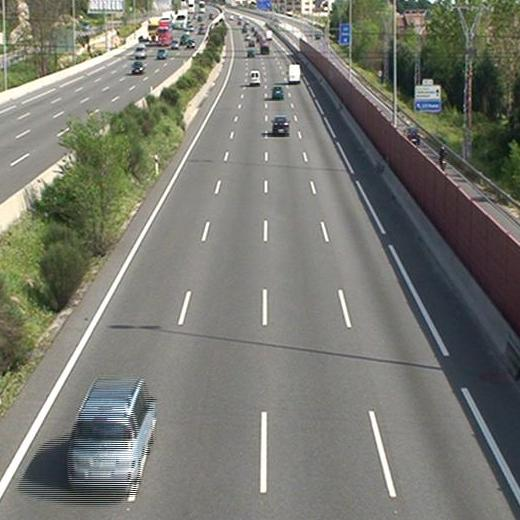car: (69, 383, 151, 487), (272, 116, 289, 134), (271, 85, 284, 98)
van: (289, 64, 300, 82), (249, 70, 261, 85)
